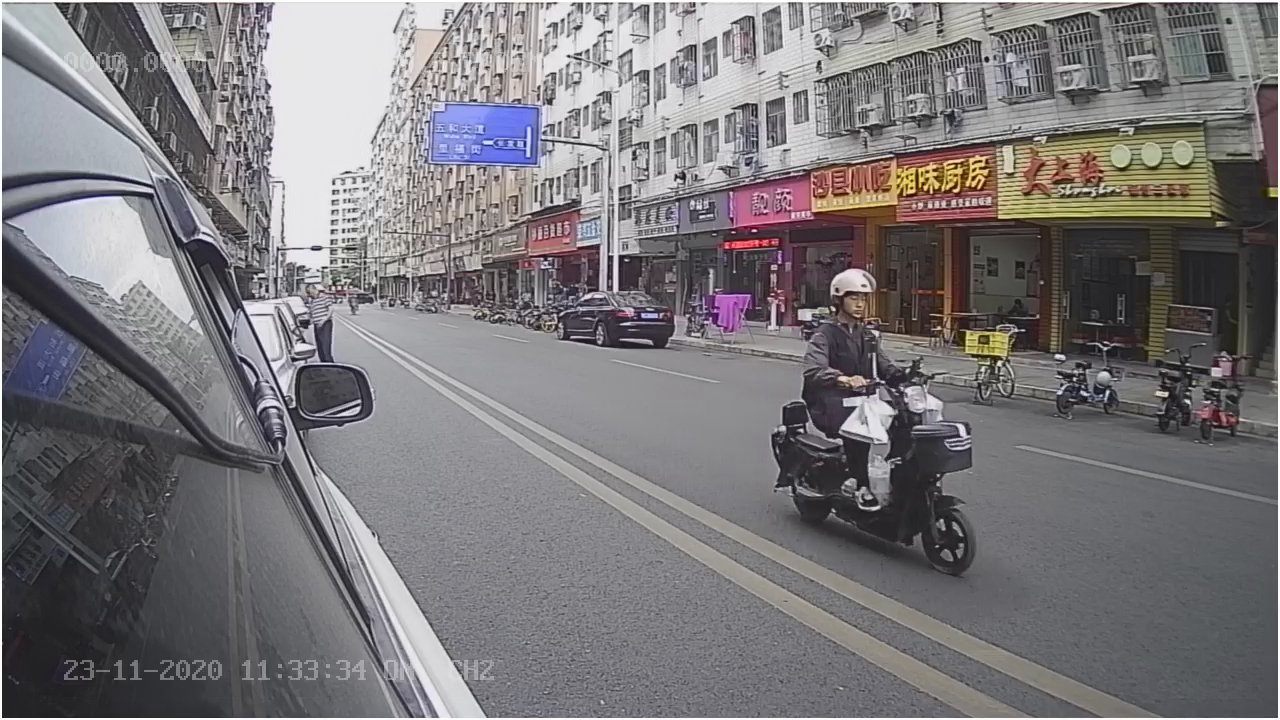person: (800, 268, 909, 389)
